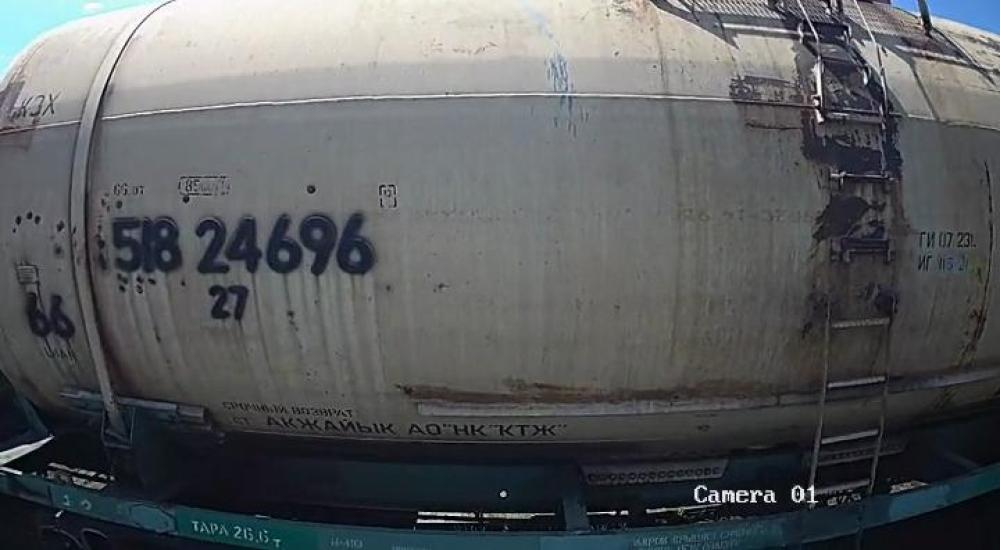Wagon-number: (105, 209, 382, 281)
